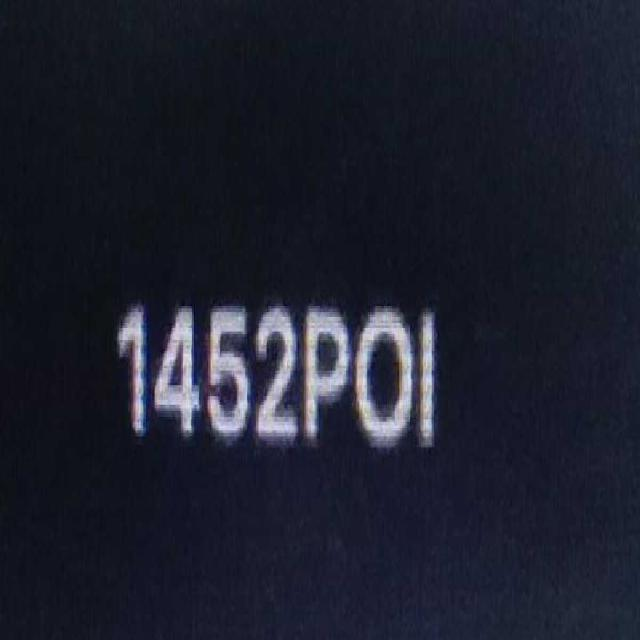license_plate: (98, 278, 444, 476), (303, 301, 350, 449)
